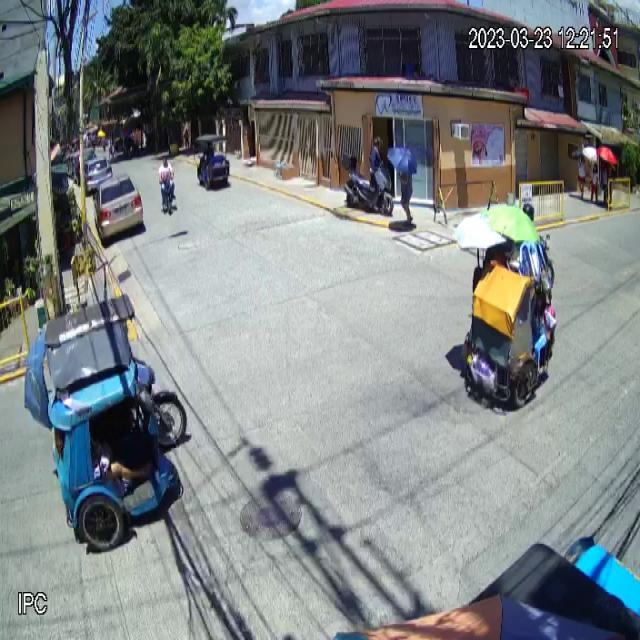Tricycle: (33, 294, 187, 550)
